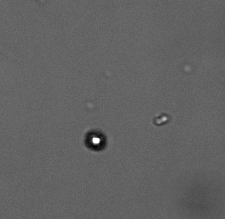Living Cell: (84, 129, 107, 151)
